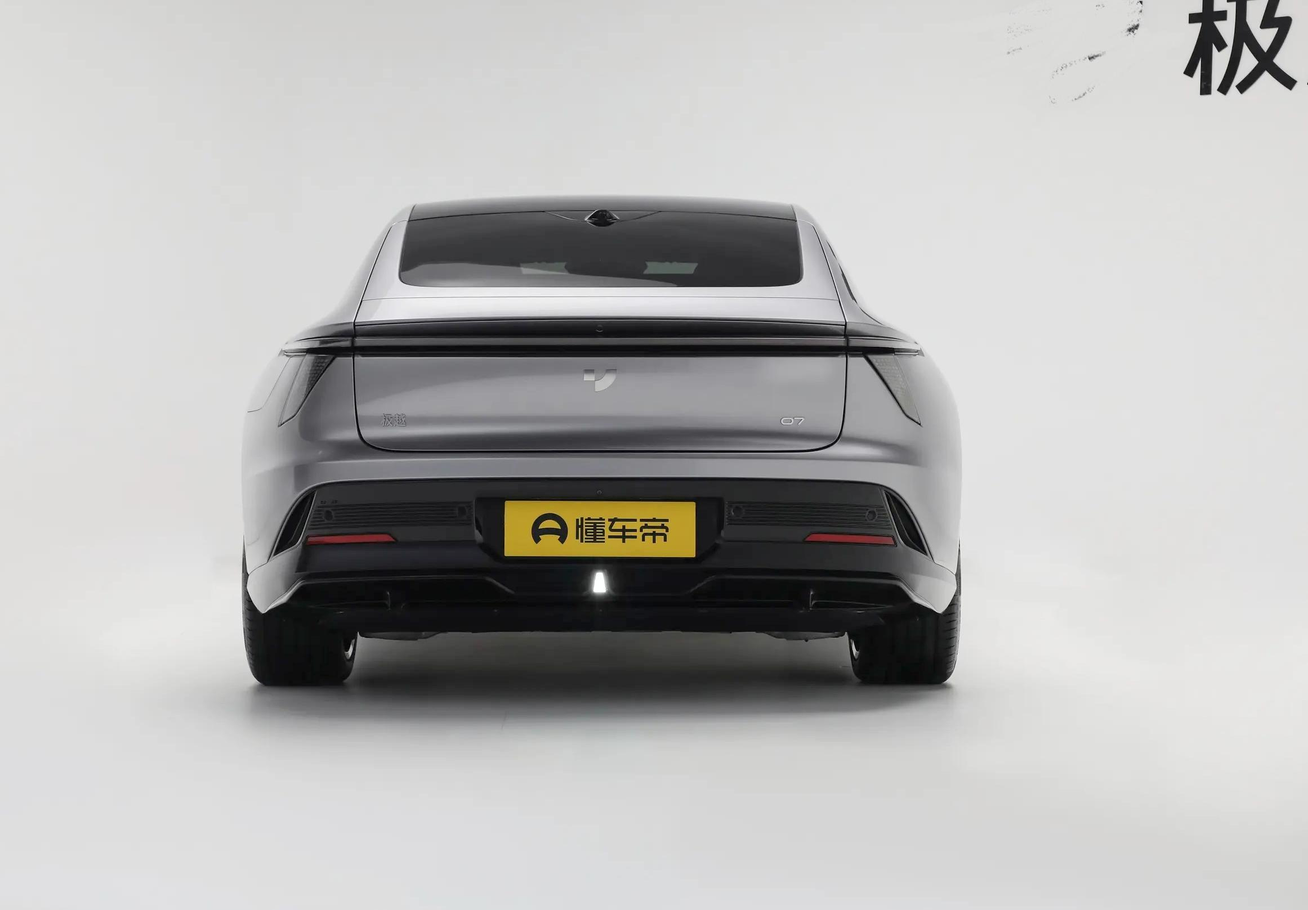JIYUE: (582, 367, 617, 393)
